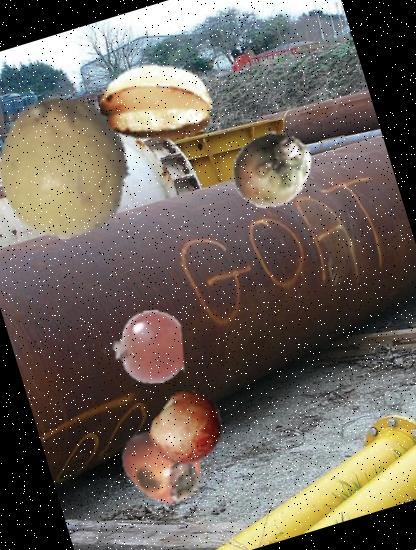Cactus: (222, 118, 322, 218)
Carambula: (86, 33, 226, 172)
Kaki: (108, 409, 220, 521)
Lemon: (0, 77, 155, 257)
Nectarine: (140, 380, 235, 475)
Redcurrant: (102, 300, 194, 392)
